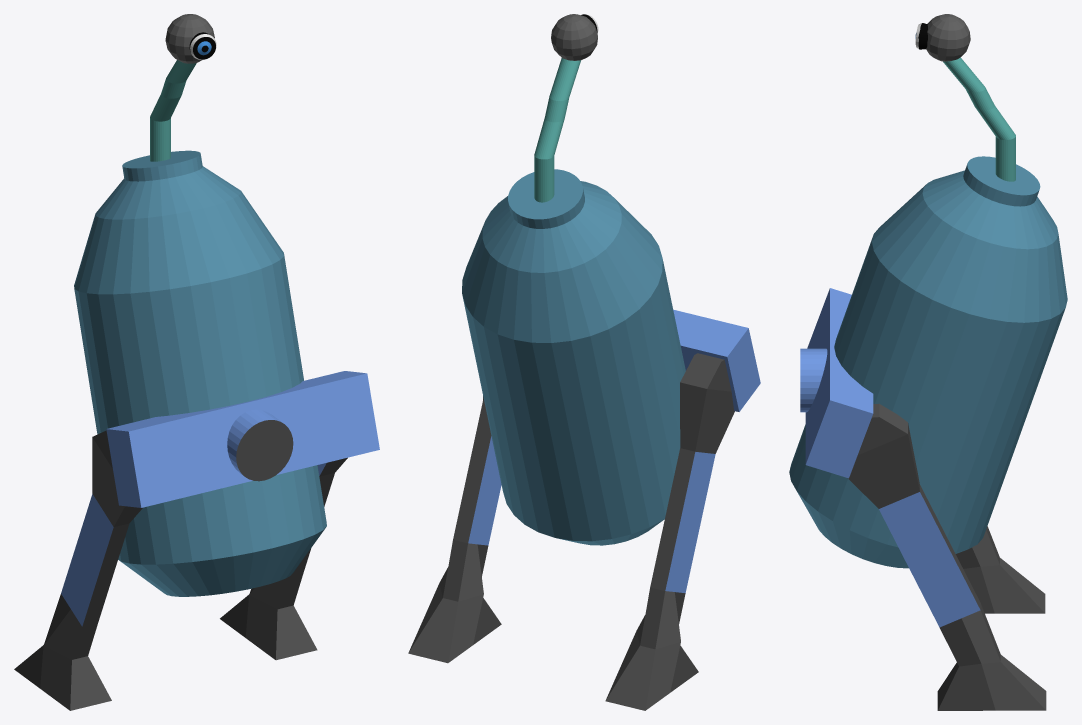
Rendered from R0D0_enemy.fbx.
The picture shows the model from 3 angles, left to right: view 1: azimuth 30°, elevation 25°; view 2: azimuth 150°, elevation 25°; view 3: azimuth 270°, elevation 25°; orthographic projection. The views are drawn at different scales.
Visible parts, largest first — view 1: body, belt, leg_L, leg_R, cord, bot_eye, bot_retina; view 2: body, leg_L, leg_R, belt, cord, bot_eye; view 3: body, leg_R, belt, leg_L, cord, bot_eye.
Boxes of the visible parts, x1,y1,x2,y2 form: body: (74,150,326,596); belt: (106,371,379,507); leg_L: (14,430,142,710); leg_R: (220,457,347,660); cord: (150,60,196,161); bot_eye: (165,14,214,63); bot_retina: (189,32,216,59); body: (462,169,685,545); leg_L: (605,353,734,710); leg_R: (408,396,501,663); belt: (673,309,760,411); cord: (534,58,580,202); bot_eye: (551,14,597,60); body: (789,156,1067,568); leg_R: (848,403,1046,710); belt: (800,288,873,478); leg_L: (956,526,1045,613); cord: (943,57,1015,181); bot_eye: (926,14,970,61).
Size of the model in its own units: 274 by 683 by 270.
